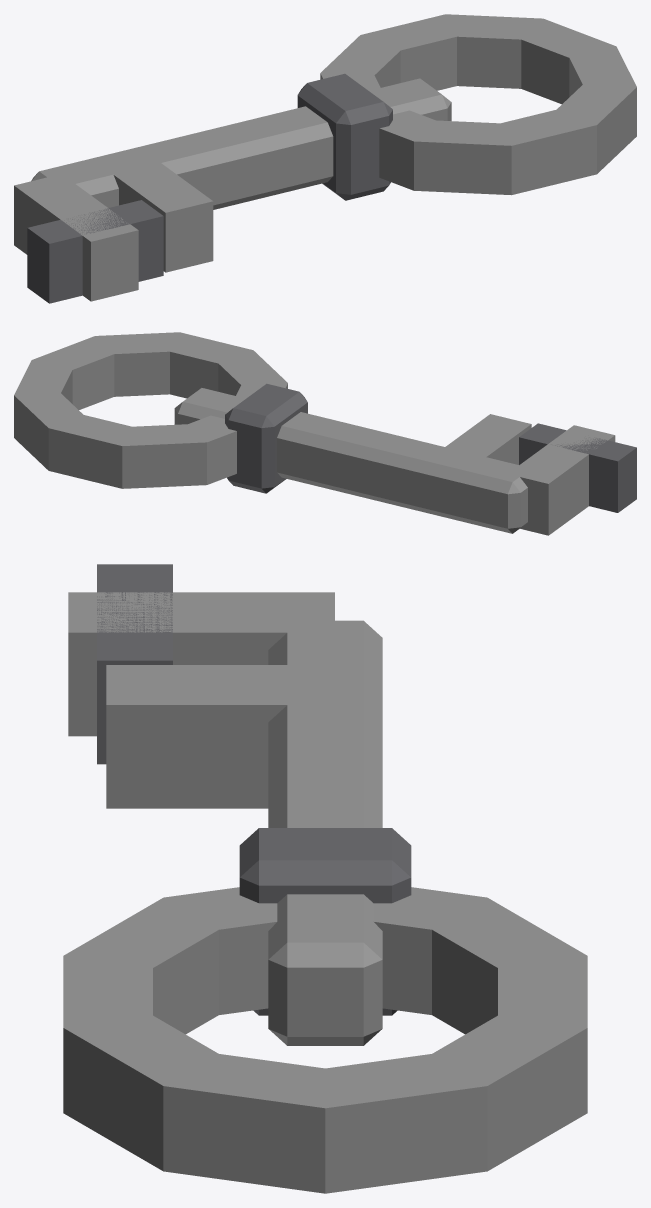
The model's file is key.fbx.
3 renders of one model, top to bottom at view 1: azimuth 30°, elevation 25°; view 2: azimuth 150°, elevation 25°; view 3: azimuth 270°, elevation 25°, orthographic. The views are drawn at different scales.
Parts seen in each view (by area): view 1: Key; view 2: Key; view 3: Key.
Boxes of the visible parts, left/top/right/bottom form: Key: left=14, top=14, right=636, bottom=303; Key: left=14, top=332, right=636, bottom=535; Key: left=63, top=564, right=587, bottom=1193.
Bounding box in the file's own units: 0.6647 × 0.09 × 0.2753.
1 material, 1 textured.
